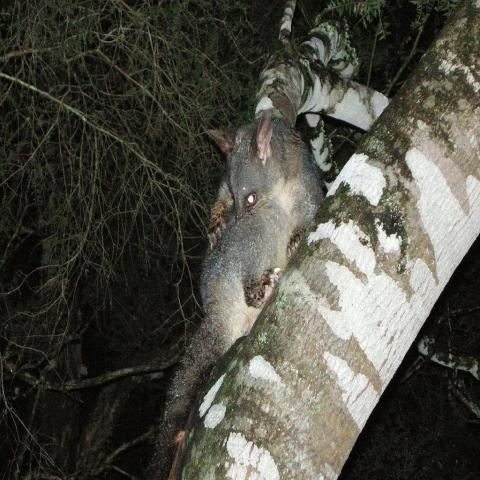small_animal: (164, 107, 326, 476)
